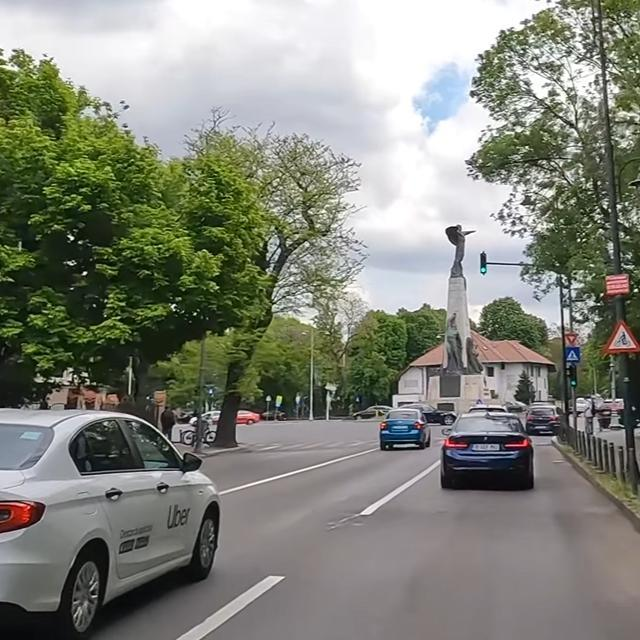info_crosswalk: (564, 347, 581, 362)
prio_give_way: (565, 334, 579, 346)
